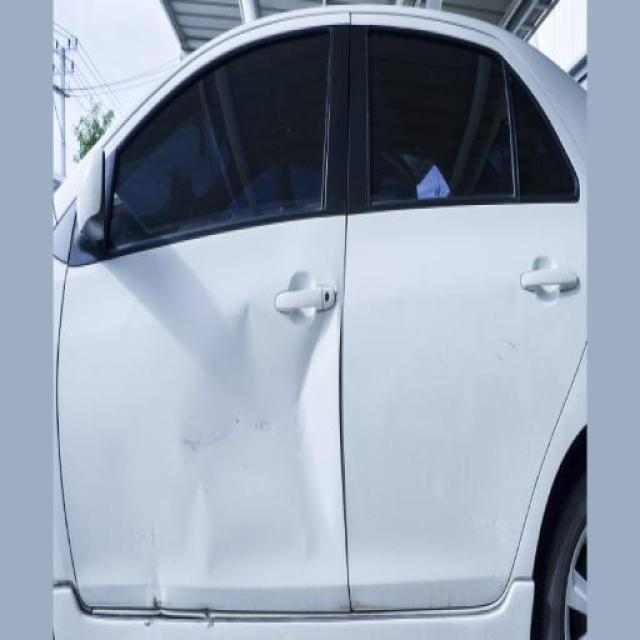dent: (144, 270, 356, 618)
